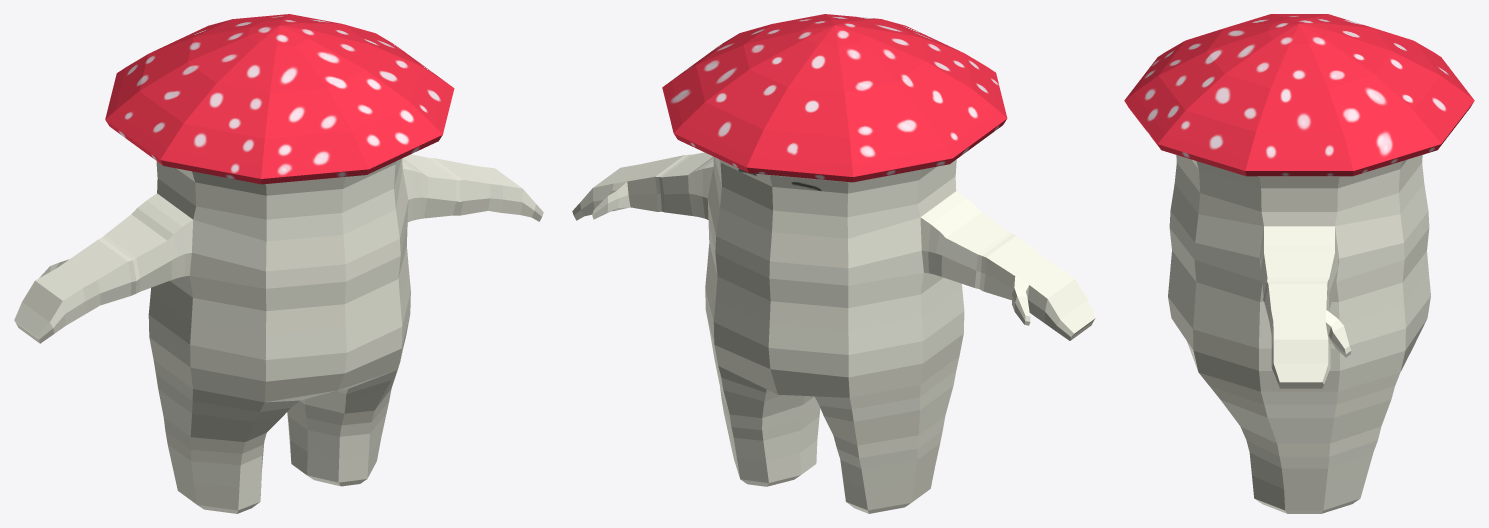
The model's file is Flomph.fbx.
3 renders of one model, left to right at view 1: azimuth 30°, elevation 25°; view 2: azimuth 150°, elevation 25°; view 3: azimuth 270°, elevation 25°, orthographic.
Visible parts, largest first — view 1: Cylinder; view 2: Cylinder; view 3: Cylinder.
Part boxes in pixels (box(x1,y1,x2,y2)): Cylinder: box(14, 14, 543, 513); Cylinder: box(572, 14, 1095, 513); Cylinder: box(1124, 14, 1474, 513).
Size of the model in its own units: 461 by 399 by 281.
1 material, 1 textured.
